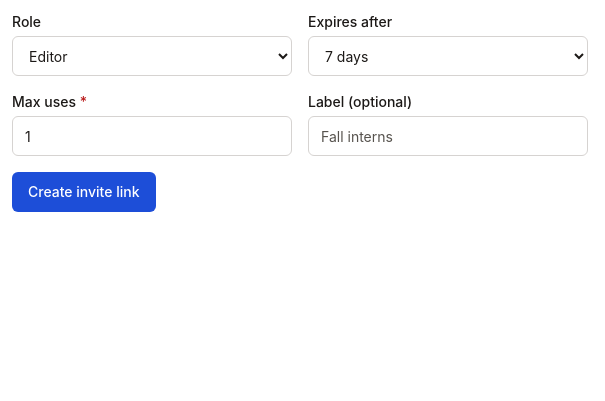
Scenario: InviteCreateForm › offers only the roles passed in and shows the new link to copy
Click the button "Create invite link" at (84, 192), box [12, 172, 156, 212]
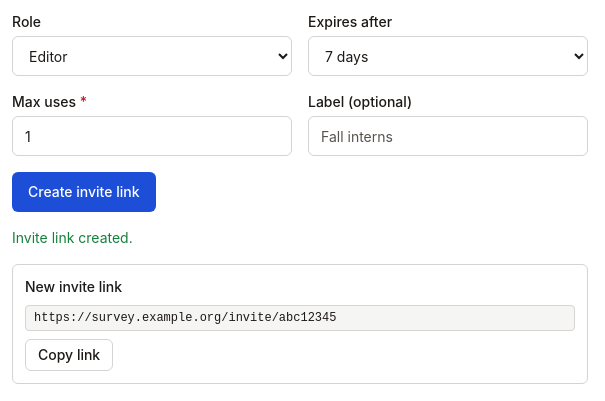
Expected: the field labelled "New invite link" holds "https://survey.example.org/invite/abc12345", [25, 305, 575, 331]
Expected: the button "Copy link" is shown, [25, 339, 113, 371]
